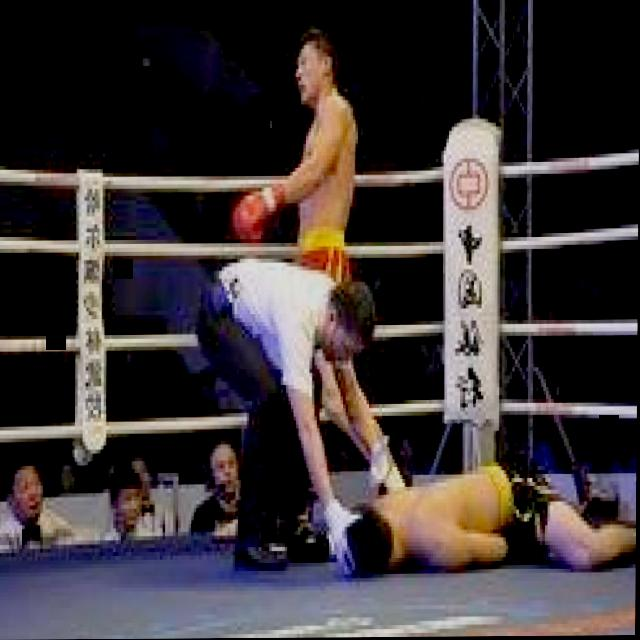Fall-Detected: (314, 443, 637, 579)
